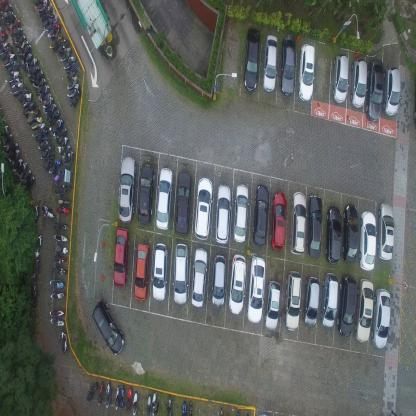car: (92, 300, 125, 358), (336, 273, 358, 338), (353, 277, 374, 344), (246, 256, 266, 324), (364, 57, 384, 123), (118, 154, 136, 225), (371, 287, 391, 350), (174, 168, 192, 236), (252, 182, 270, 249), (242, 25, 260, 92), (270, 188, 288, 253), (194, 176, 212, 240), (155, 166, 173, 230), (340, 204, 359, 264), (289, 189, 306, 256), (306, 193, 323, 260), (228, 254, 246, 317), (284, 268, 302, 331), (358, 209, 376, 272), (297, 42, 315, 104), (377, 200, 395, 262), (136, 162, 153, 227), (231, 181, 249, 242), (324, 204, 342, 265), (279, 32, 296, 96), (214, 182, 231, 245), (112, 225, 129, 288), (191, 246, 208, 309), (172, 242, 189, 305), (320, 271, 338, 329), (262, 31, 278, 93), (382, 66, 401, 118), (133, 241, 149, 302), (152, 242, 168, 302), (210, 254, 227, 310), (302, 274, 320, 326), (264, 279, 282, 330), (332, 52, 349, 104), (350, 56, 366, 109)
